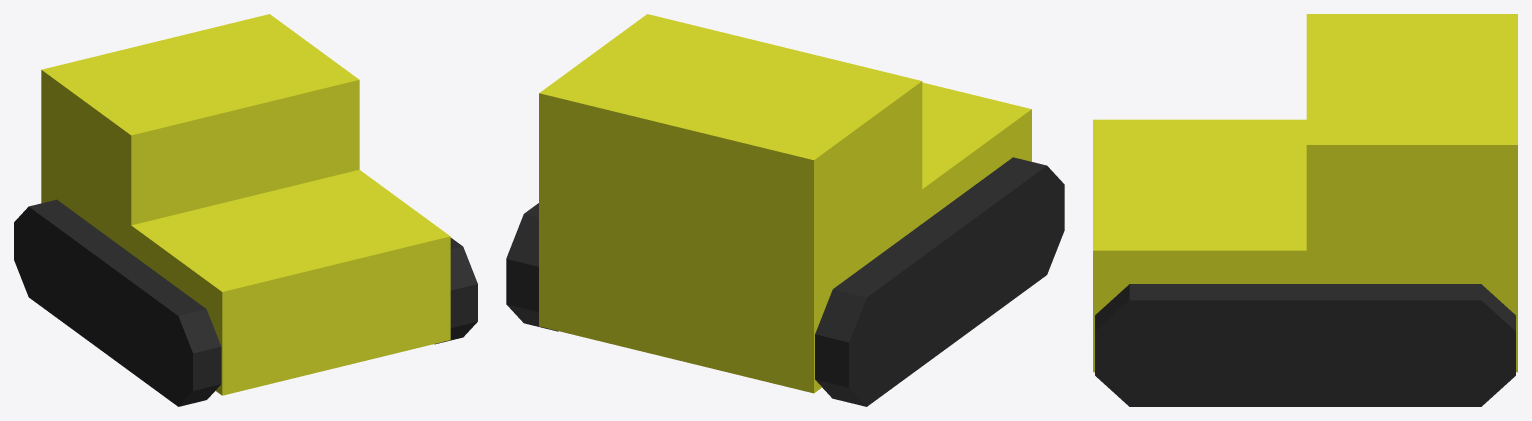
Rendered from truck.glb.
3 views of the same model, side by side, from view 1: azimuth 30°, elevation 25°; view 2: azimuth 150°, elevation 25°; view 3: azimuth 270°, elevation 25° (orthographic). The views are drawn at different scales.
Parts seen in each view (by area): view 1: Body, Wheels; view 2: Body, Wheels; view 3: Body, Wheels.
Boxes of the visible parts, x1,y1,x2,y2 form: Body: (41,14,450,395); Wheels: (14,199,477,406); Body: (539,14,1031,393); Wheels: (506,157,1064,406); Body: (1093,14,1517,372); Wheels: (1095,284,1515,406).
Size of the model in its own units: 2 by 1.4 by 2.2.
